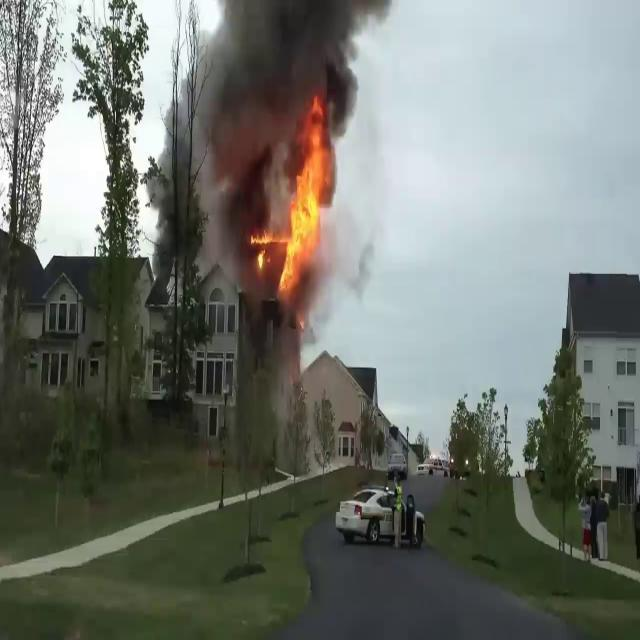Fire: (255, 102, 339, 300)
Smoke: (156, 0, 391, 204)
